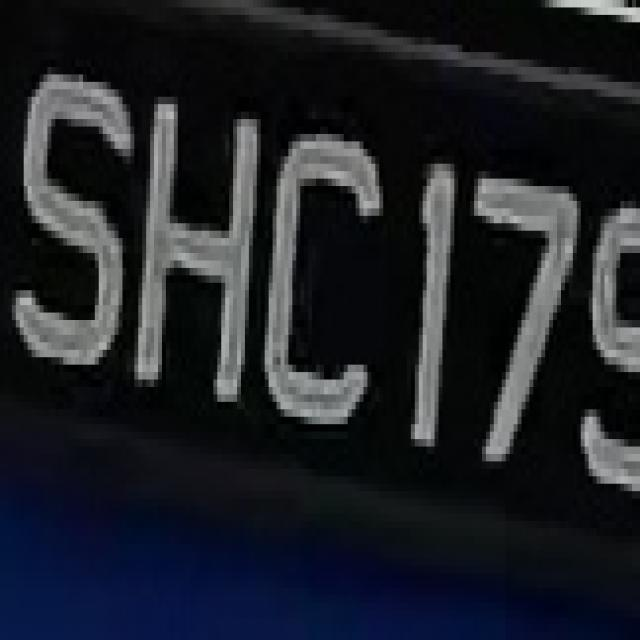1: (415, 119, 462, 476)
7: (470, 149, 581, 491)
9: (577, 164, 640, 528)
C: (265, 82, 387, 454)
H: (138, 59, 265, 402)
S: (20, 44, 130, 380)
